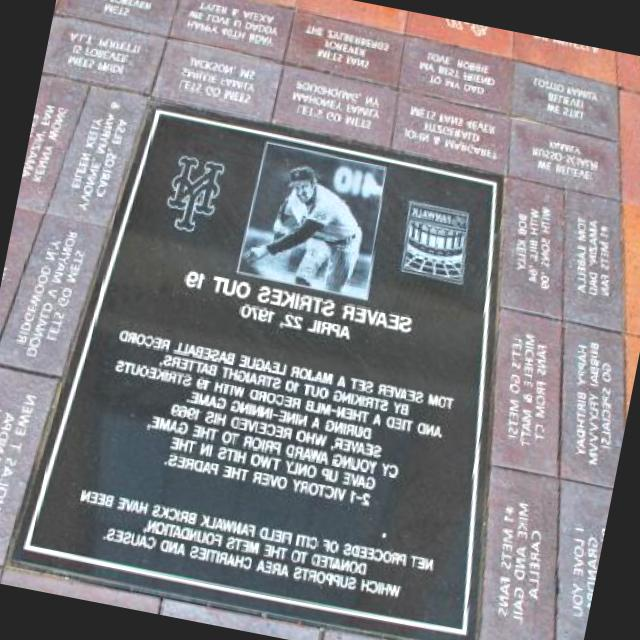Person: (237, 155, 380, 302)
